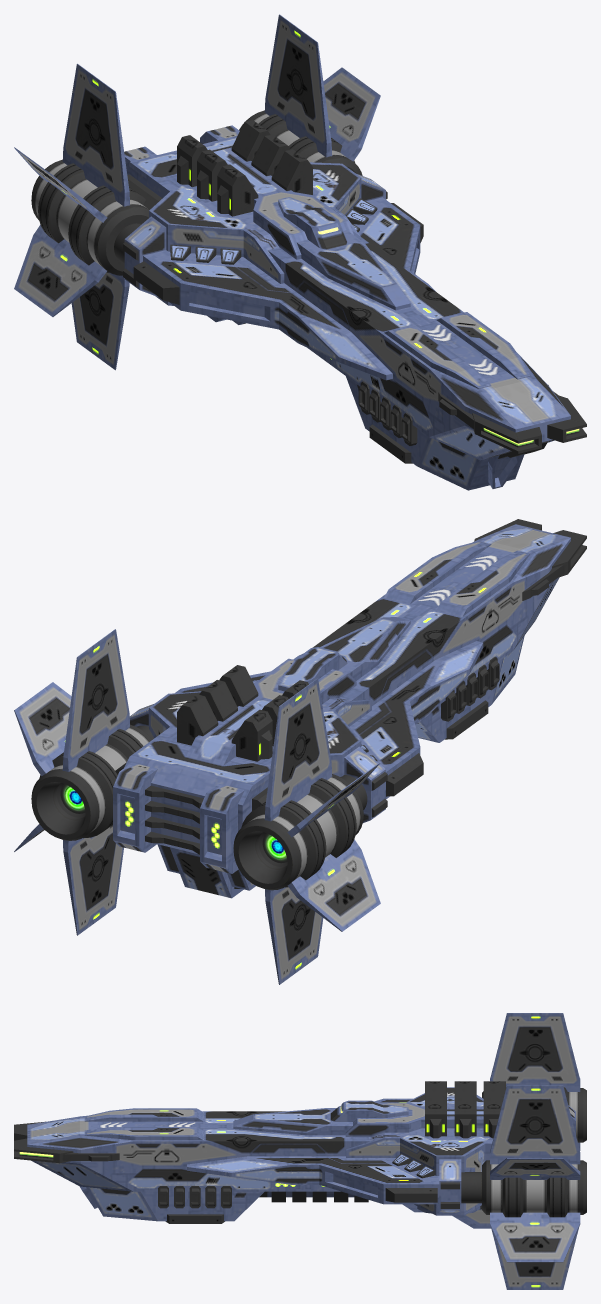
Rendered from cruiser-journeyman.glb.
3 renders of one model, top to bottom at view 1: azimuth 30°, elevation 25°; view 2: azimuth 150°, elevation 25°; view 3: azimuth 270°, elevation 25°, orthographic. The views are drawn at different scales.
Parts seen in each view (by area): view 1: hull; view 2: hull; view 3: hull.
Part boxes in pixels (x1=…): hull: x1=14, y1=14, x2=586, y2=490; hull: x1=14, y1=519, x2=586, y2=984; hull: x1=14, y1=1013, x2=586, y2=1289.
Size of the model in its own units: 0.4858 by 0.3932 by 1.
1 material, 1 textured.
